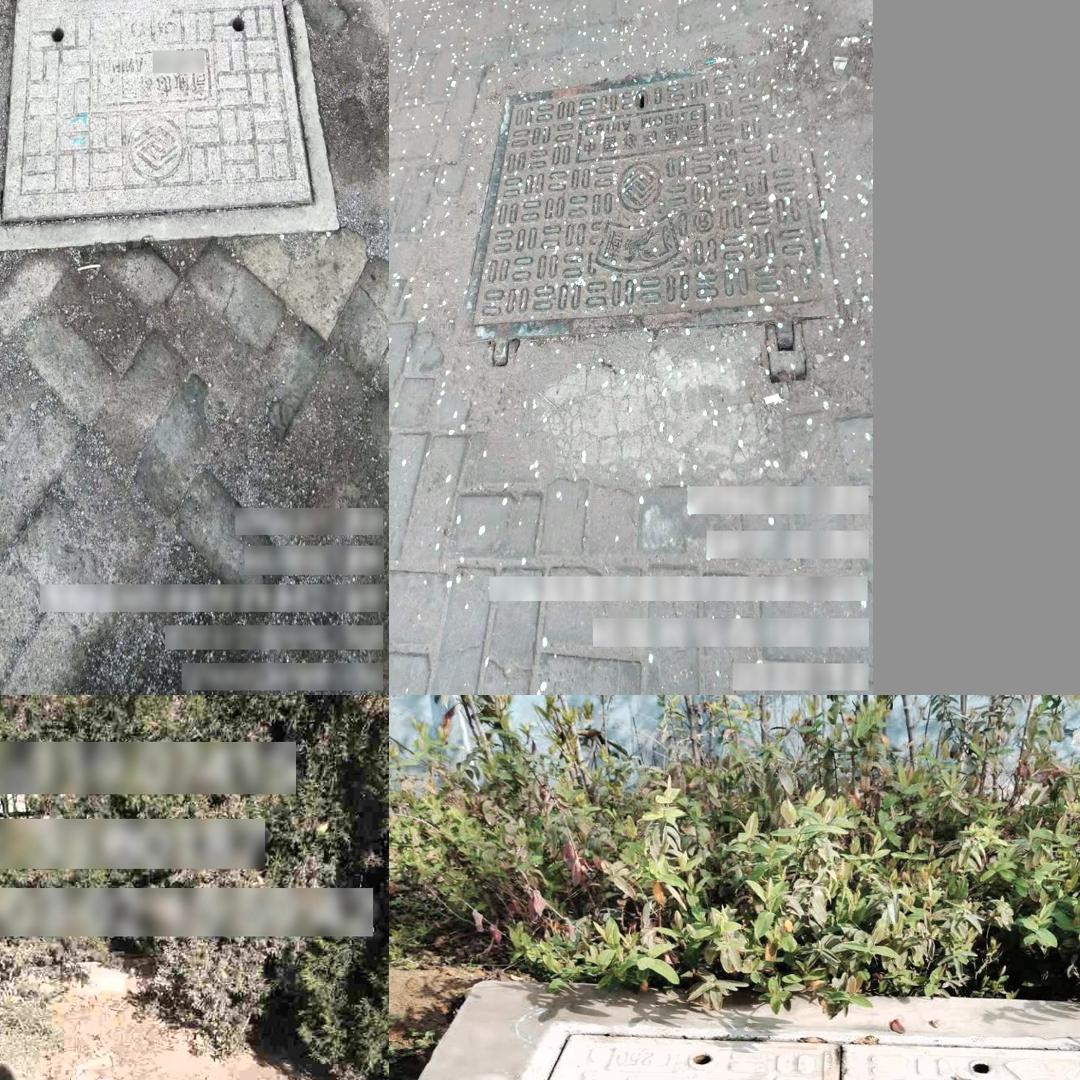good: (463, 58, 840, 378), (0, 0, 340, 258), (397, 1018, 1080, 1080)
